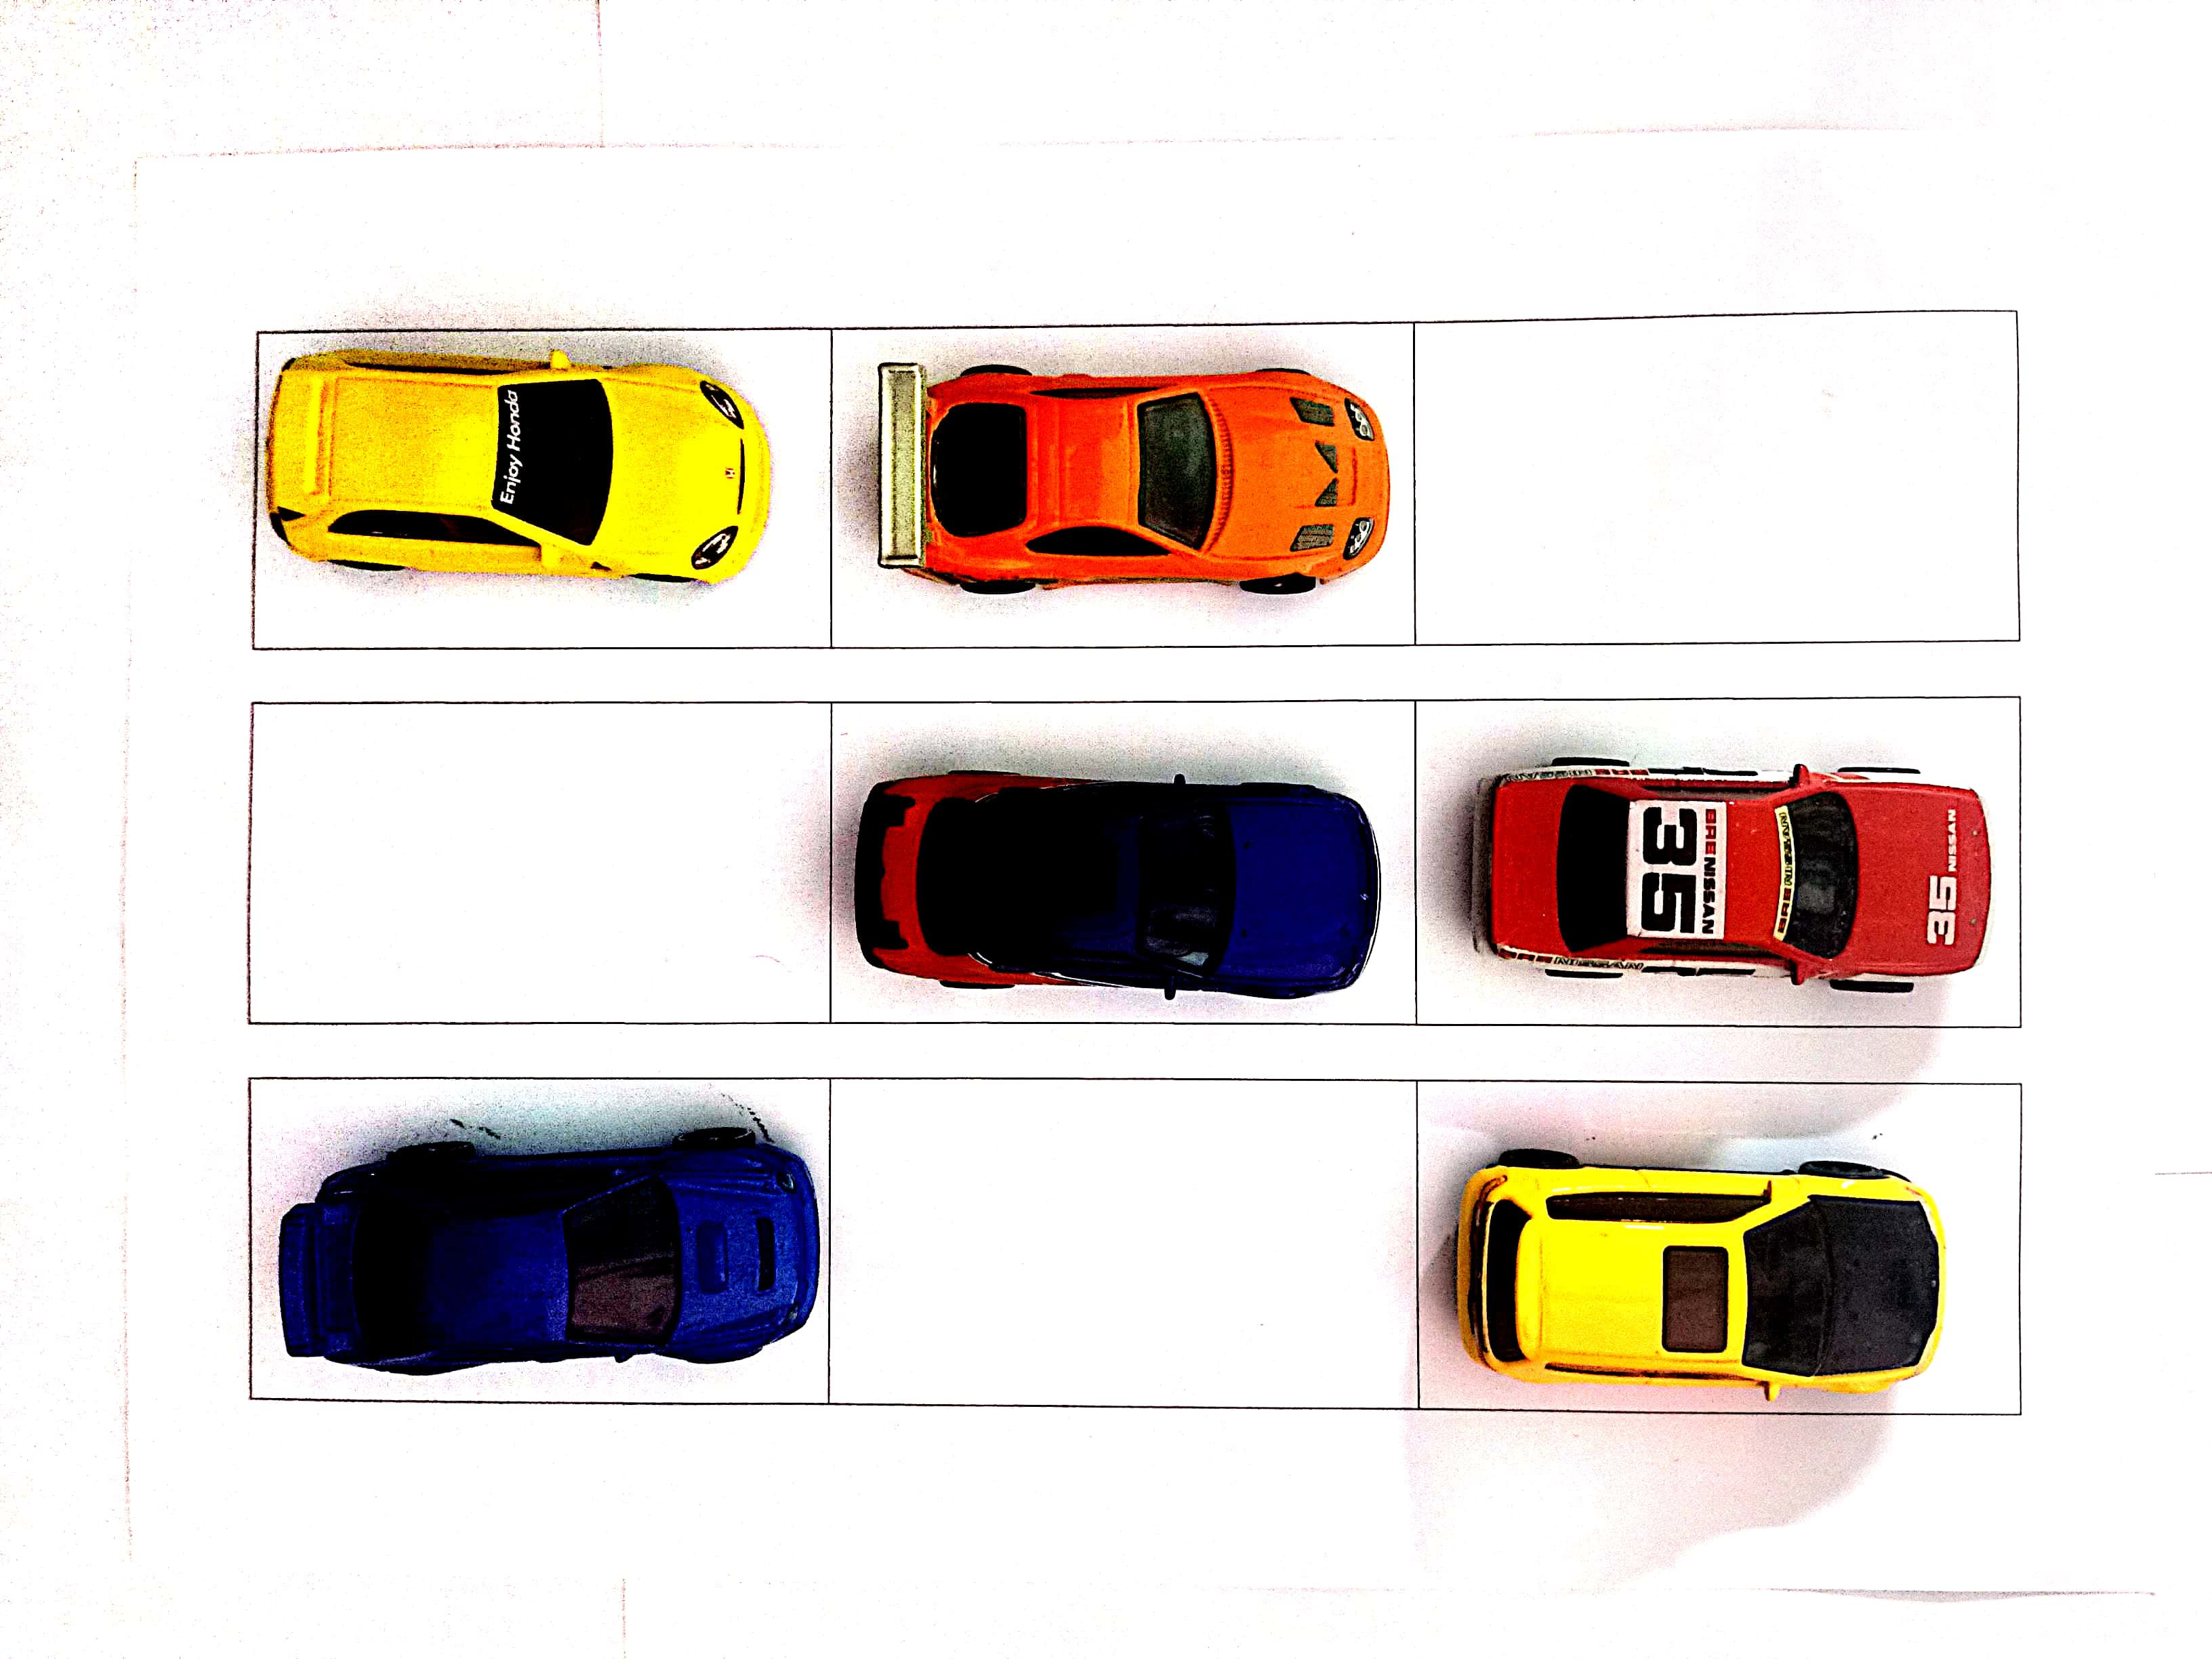Busy: (1418, 1084, 2026, 1410), (1418, 699, 2022, 1021), (254, 328, 833, 653), (834, 326, 1407, 653), (833, 704, 1418, 1025), (254, 1079, 827, 1401)
Free: (1413, 312, 2013, 634), (827, 1082, 1418, 1401), (244, 708, 834, 1019)
